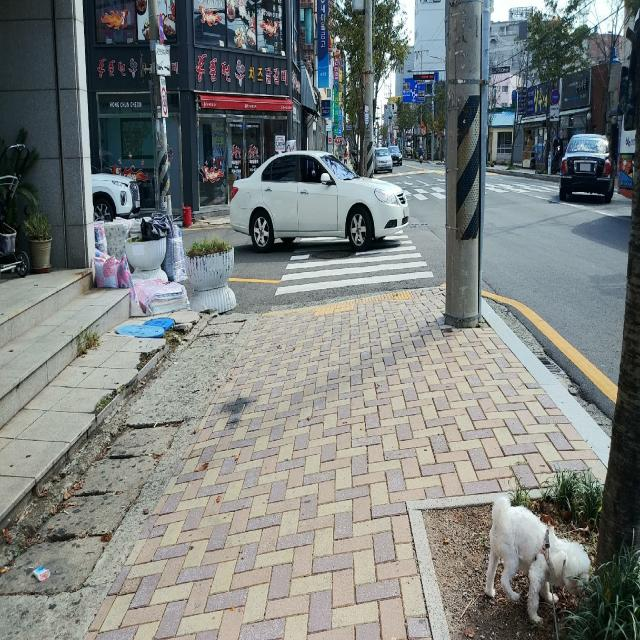횡단보도: (273, 227, 435, 298)
